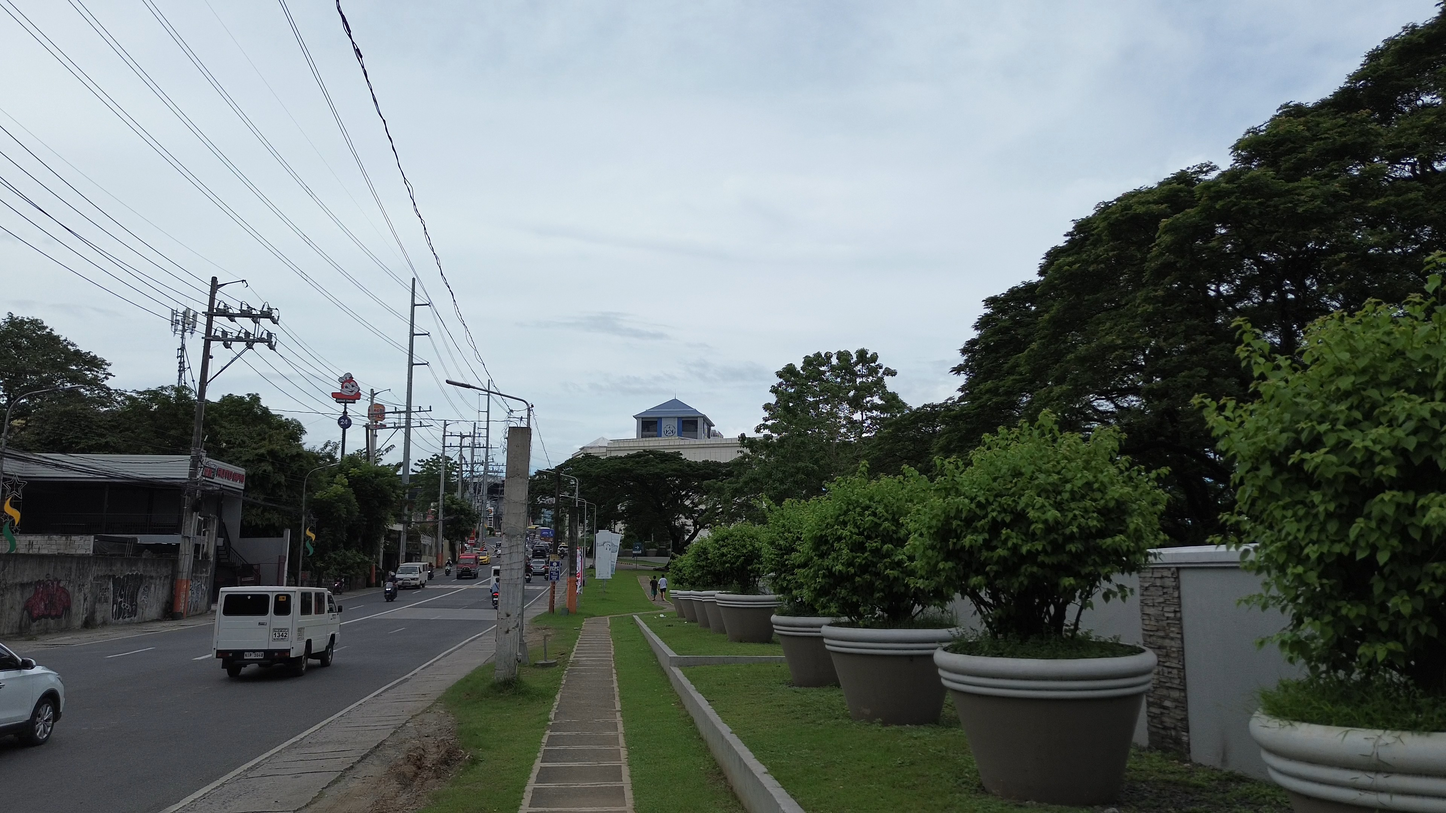motorcycle: (384, 581, 397, 601), (444, 565, 451, 575)
vehicle: (213, 587, 342, 677), (0, 644, 64, 745), (395, 562, 427, 588), (456, 554, 481, 579), (384, 579, 398, 602), (491, 583, 499, 609), (444, 562, 452, 575)
